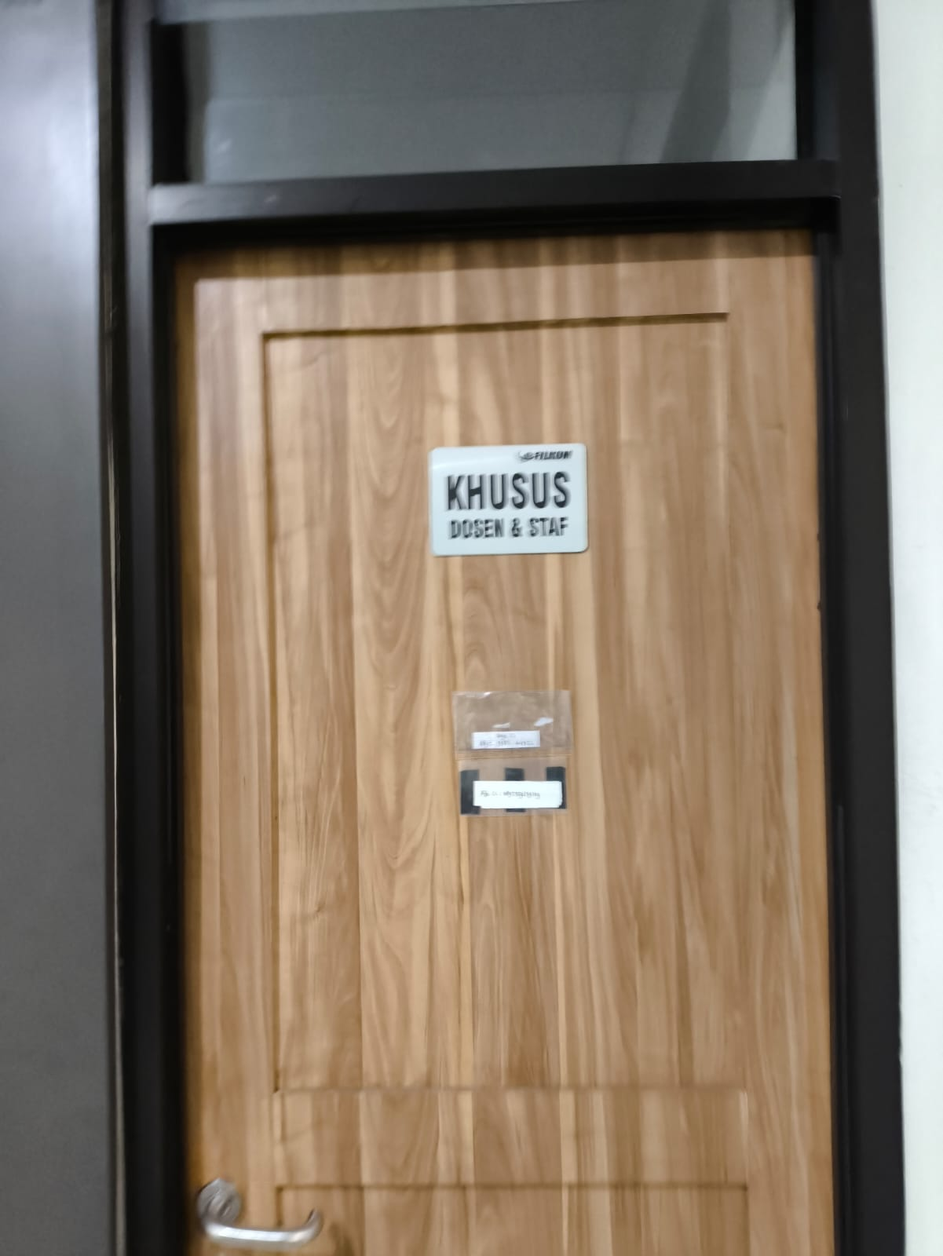ruang khusus dosen dan staff: (423, 436, 594, 563)
